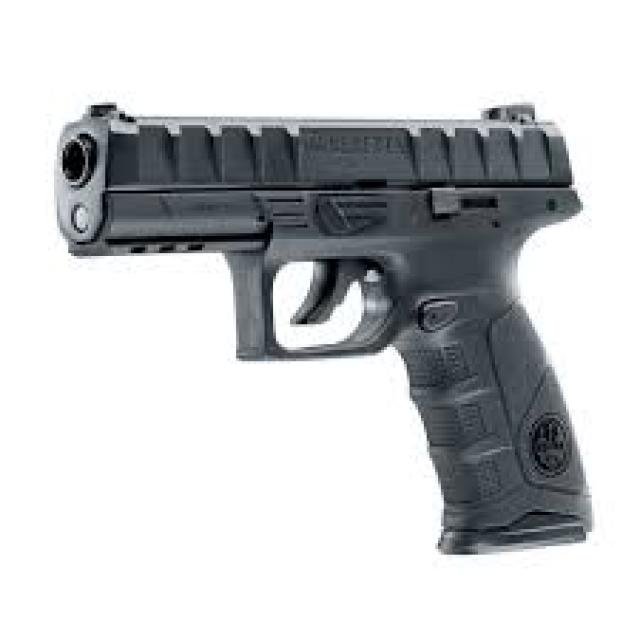pistol: (42, 95, 608, 565)
